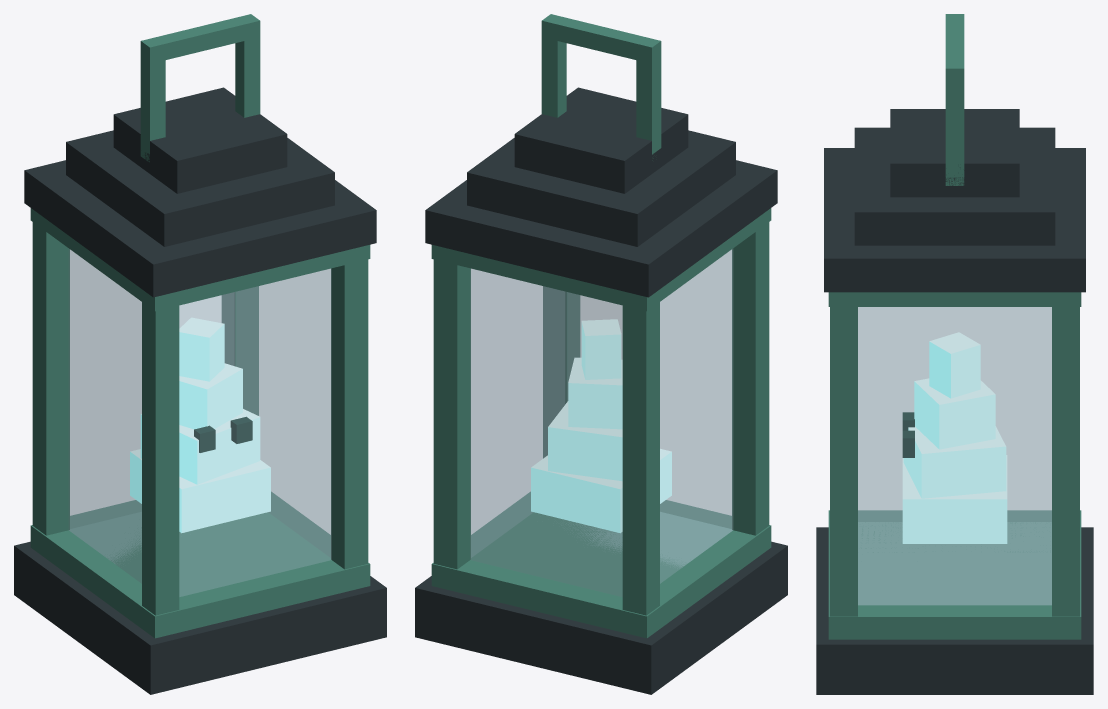
The picture shows the model from 3 angles, left to right: view 1: azimuth 30°, elevation 25°; view 2: azimuth 150°, elevation 25°; view 3: azimuth 270°, elevation 25°; orthographic projection.
Visible parts, largest first — view 1: R031_Main, R031_Trim, R031_Glass, R031_Glow, R031_Gem; view 2: R031_Main, R031_Trim, R031_Glass, R031_Glow; view 3: R031_Trim, R031_Glass, R031_Main, R031_Glow, R031_Gem.
Part boxes in pixels (x1,y1,x2,y2): R031_Main: [30, 14, 370, 638]; R031_Trim: [14, 87, 386, 694]; R031_Glass: [69, 249, 331, 596]; R031_Glow: [130, 317, 270, 532]; R031_Gem: [194, 417, 252, 452]; R031_Main: [431, 14, 771, 638]; R031_Trim: [415, 87, 787, 694]; R031_Glass: [470, 249, 732, 596]; R031_Glow: [531, 319, 671, 532]; R031_Trim: [816, 109, 1093, 694]; R031_Glass: [858, 307, 1051, 605]; R031_Main: [828, 14, 1081, 639]; R031_Glow: [902, 332, 1007, 543]; R031_Gem: [902, 412, 914, 457].
Size of the model in its own units: 0.9 by 2.13 by 0.9.
